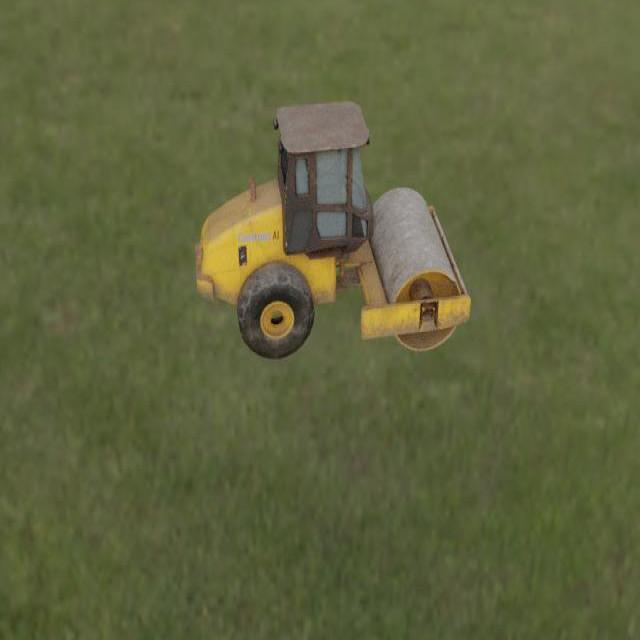Roller: (194, 100, 471, 359)
